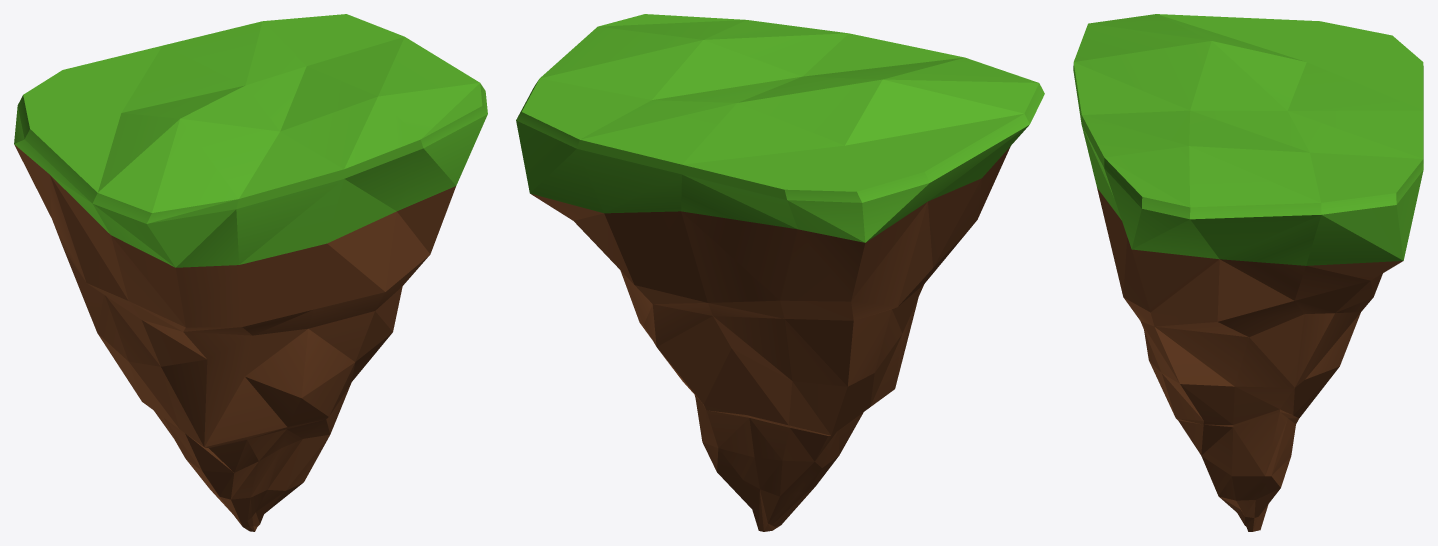
Rendered from Island_Grass_01_vf.FBX.
3 views of the same model, side by side, from view 1: azimuth 30°, elevation 25°; view 2: azimuth 150°, elevation 25°; view 3: azimuth 270°, elevation 25° (orthographic). The views are drawn at different scales.
Visible parts, largest first — view 1: Box001; view 2: Box001; view 3: Box001.
Part boxes in pixels (x1,y1,x2,y2): Box001: [14, 14, 487, 531]; Box001: [516, 14, 1044, 531]; Box001: [1073, 14, 1423, 531].
Size of the model in its own units: 279 by 292 by 208.
Materials: 1 (1 with a texture image).
